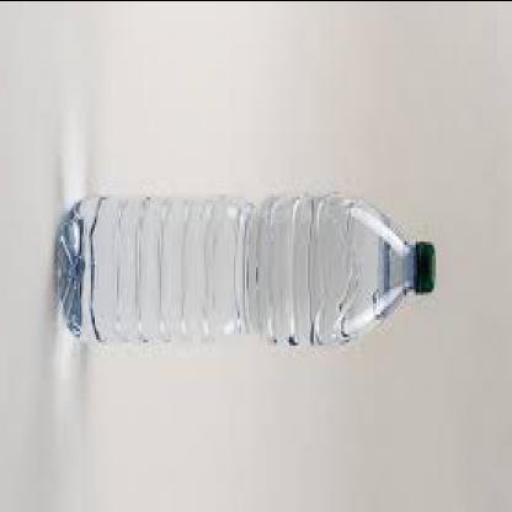plastic: (57, 199, 438, 350), (414, 243, 438, 300)
